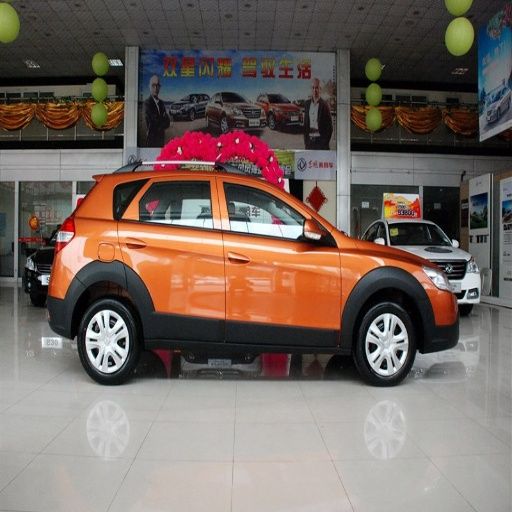back_right_door: (120, 168, 224, 336)
front_right_door: (222, 168, 340, 339)
